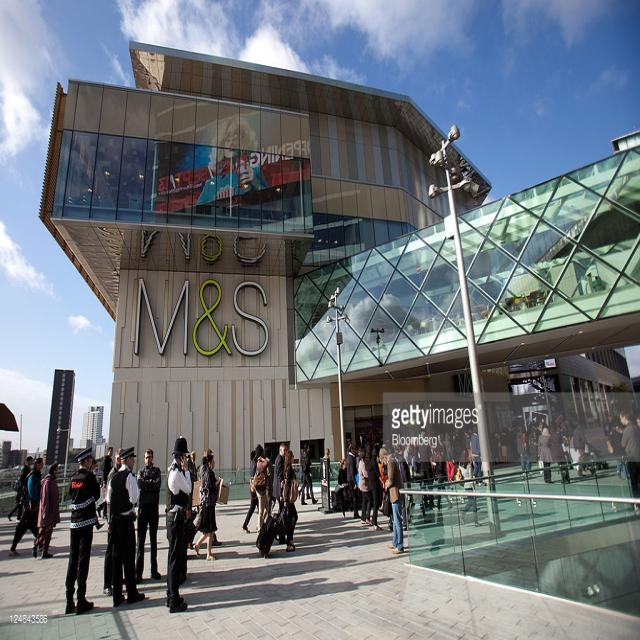body: (0, 496, 559, 623), (194, 109, 278, 218), (356, 421, 478, 496), (488, 413, 640, 469), (105, 444, 146, 608), (64, 445, 102, 616), (163, 433, 194, 614), (193, 452, 233, 562), (8, 455, 46, 559), (186, 445, 223, 550), (134, 448, 162, 586), (102, 446, 125, 597), (29, 461, 62, 560), (377, 446, 405, 556), (241, 444, 267, 534), (280, 447, 300, 554), (457, 447, 483, 529), (363, 441, 385, 532), (619, 407, 640, 500), (339, 443, 363, 521), (417, 428, 439, 510), (252, 444, 270, 536), (272, 442, 287, 545), (548, 420, 572, 484), (96, 443, 115, 520), (609, 421, 632, 484), (357, 446, 374, 526), (88, 456, 106, 531), (432, 448, 453, 512), (396, 445, 412, 521), (300, 442, 319, 505), (6, 453, 33, 497), (536, 425, 555, 485), (572, 418, 590, 477), (336, 457, 354, 514), (516, 424, 534, 475), (442, 432, 457, 484), (297, 449, 312, 500), (264, 446, 274, 522), (470, 425, 482, 487), (190, 449, 200, 514), (185, 453, 192, 519), (323, 447, 333, 479), (435, 433, 447, 454), (406, 444, 416, 464)
